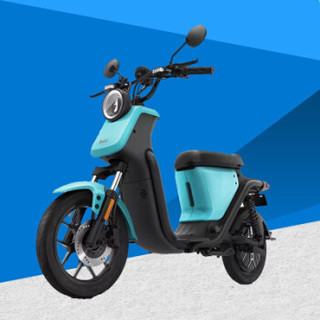MNV: (37, 24, 271, 300)
